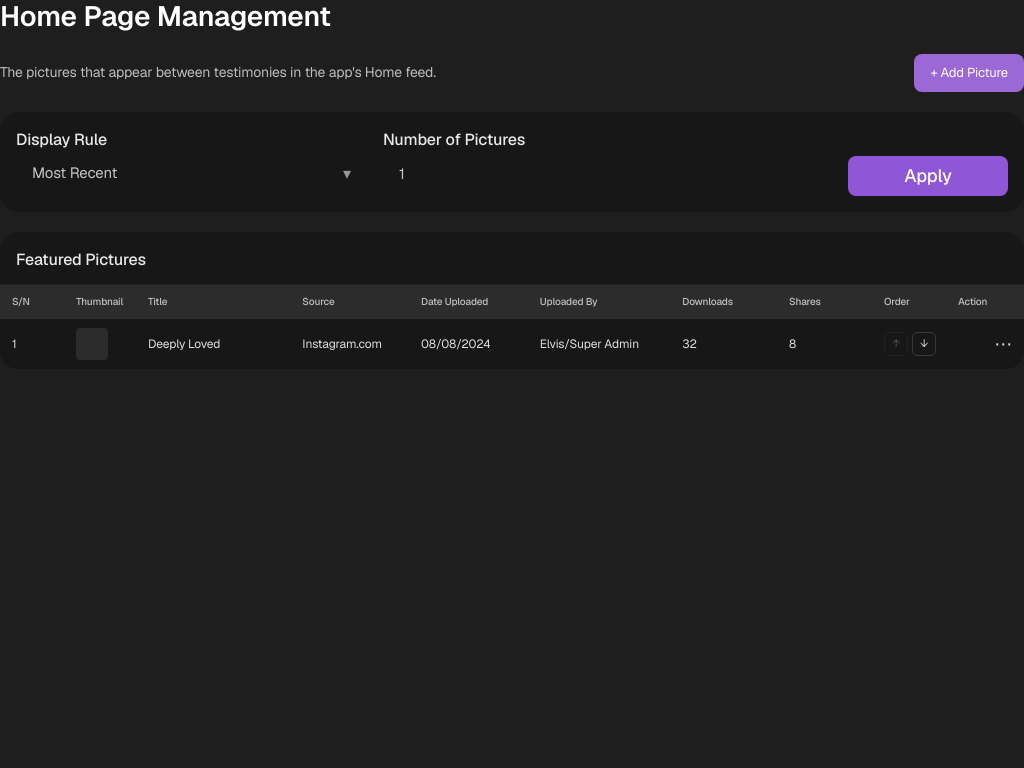
Test: HomeManagementPage › applying Display Rule + Count shows a confirmation before removing anything
Click the button "Apply".
click(928, 176)  # box [848,156,1008,196]
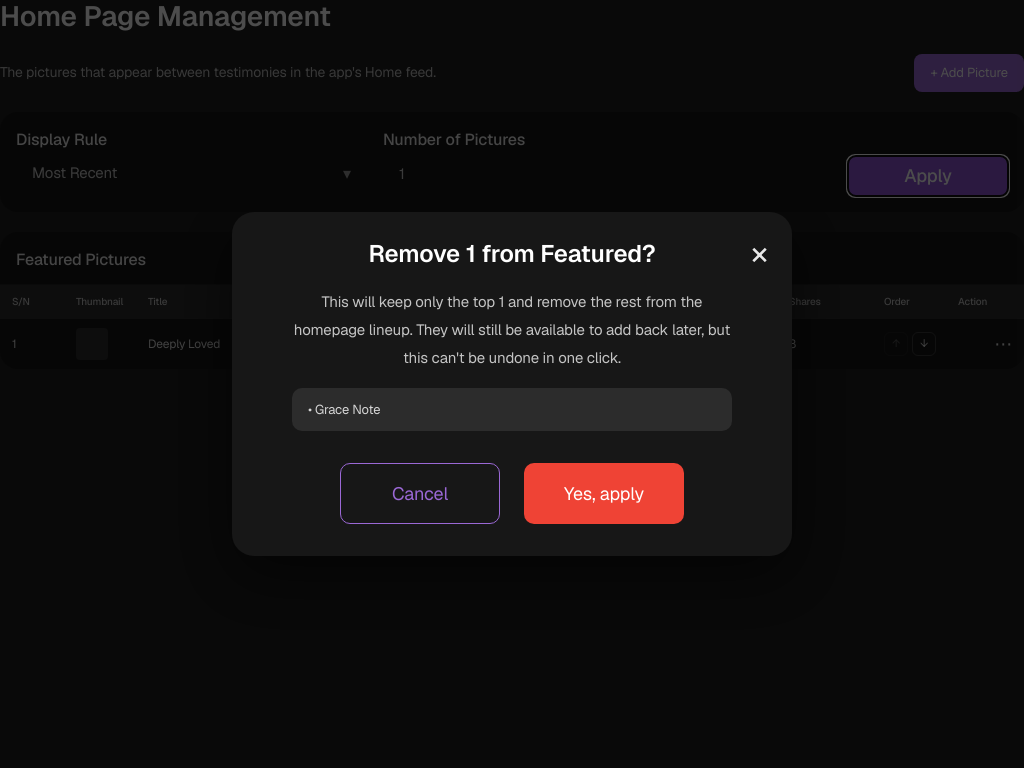
Result: the heading "Remove 1 from Featured?" is shown at [368,238,655,269]
Result: the list item "• Grace Note" is shown at [308,401,380,418]
